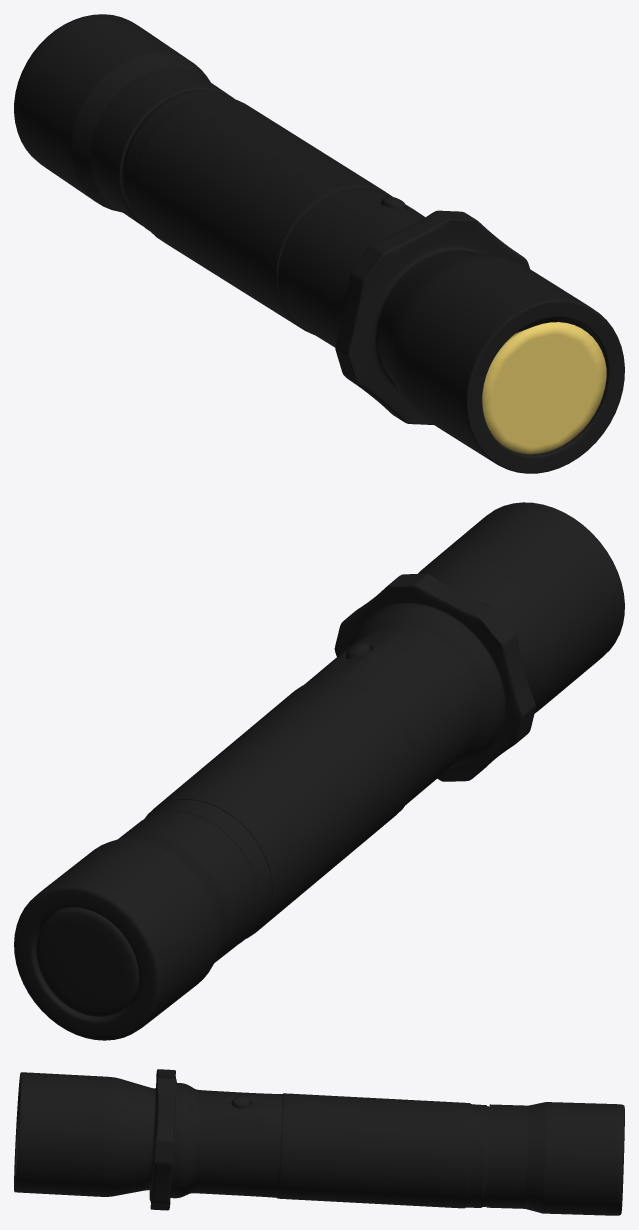
Rendered from hand_light.fbx.
3 views of the same model, one above another, from view 1: azimuth 30°, elevation 25°; view 2: azimuth 150°, elevation 25°; view 3: azimuth 270°, elevation 25° (orthographic). The views are drawn at different scales.
Visible parts, largest first — view 1: Flashlight, Cap, reflector; view 2: Flashlight, Cap; view 3: Flashlight, Cap.
Boxes of the visible parts, x1,y1,x2,y2 form: Flashlight: (122,90,624,473); Cap: (14,14,234,225); reflector: (482,322,606,454); Flashlight: (144,502,624,944); Cap: (14,811,256,1040); Flashlight: (14,1069,489,1210); Cap: (486,1102,624,1215).
Size of the model in its own units: 208 by 218 by 890.
